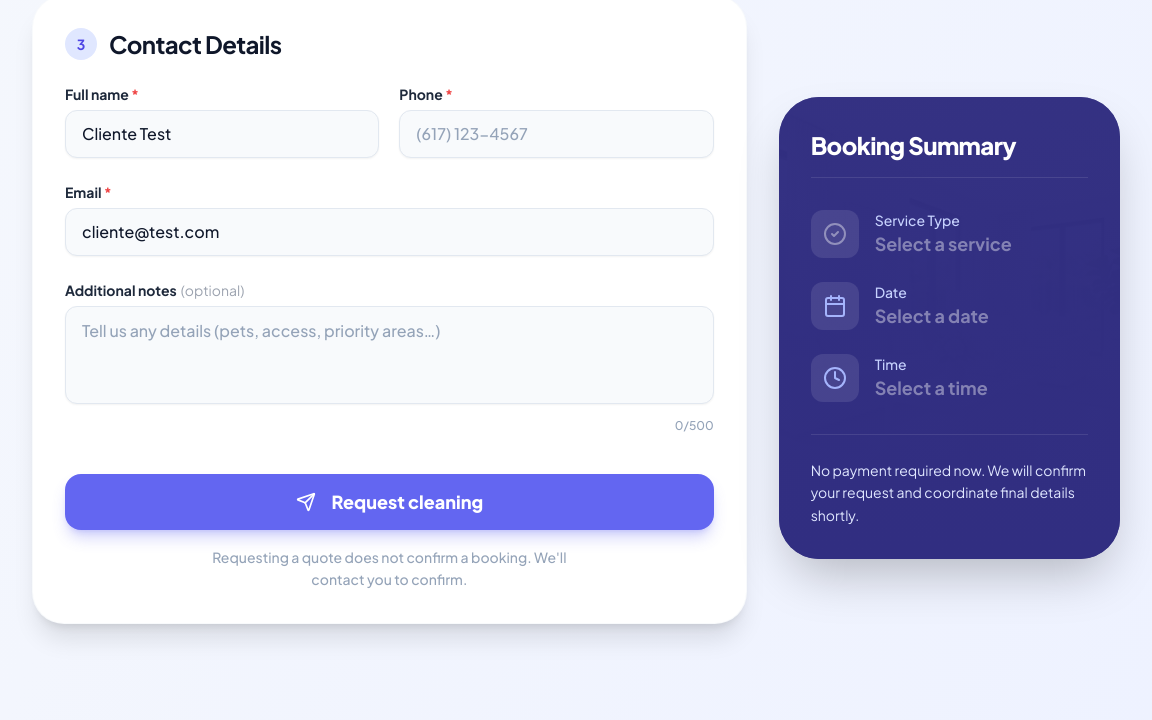
Scenario: FormularioSolicitud › muestra error de validación al enviar vacío
The image size is (1152, 720).
(page scrolled)
Click the button "Request cleaning" at (389, 502), box 65,474 -> 714,530
(page scrolled)
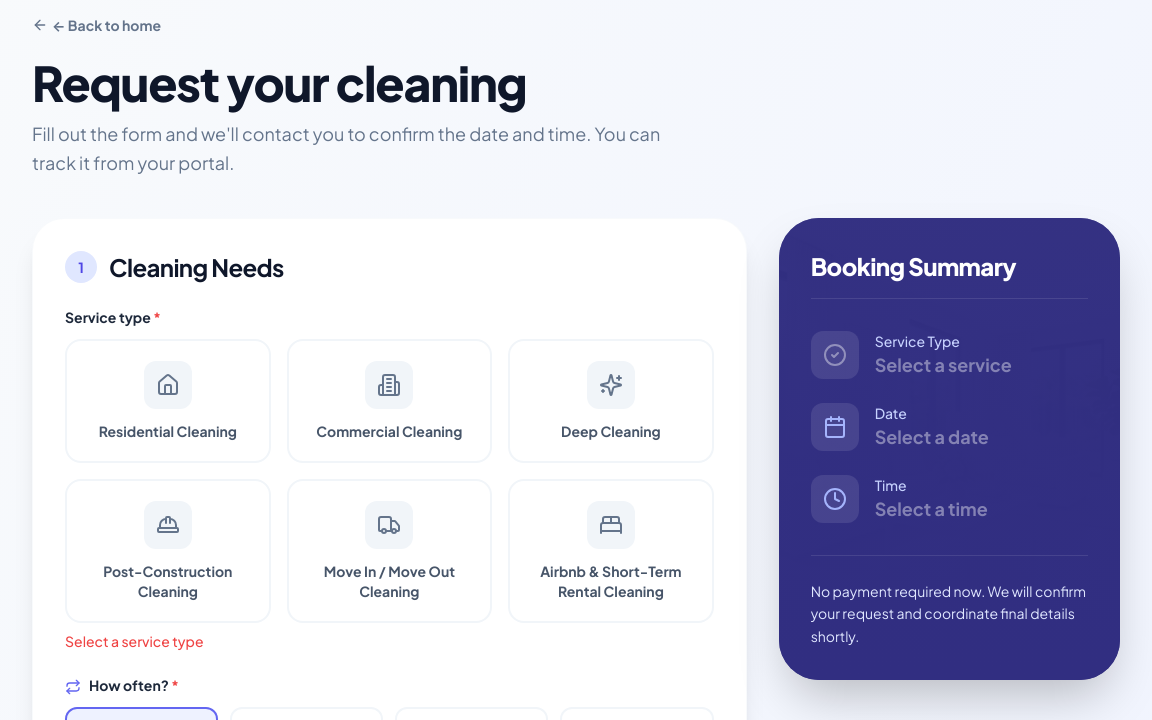
Check: the message "Select a service type" is shown, box 65,632 -> 204,650
